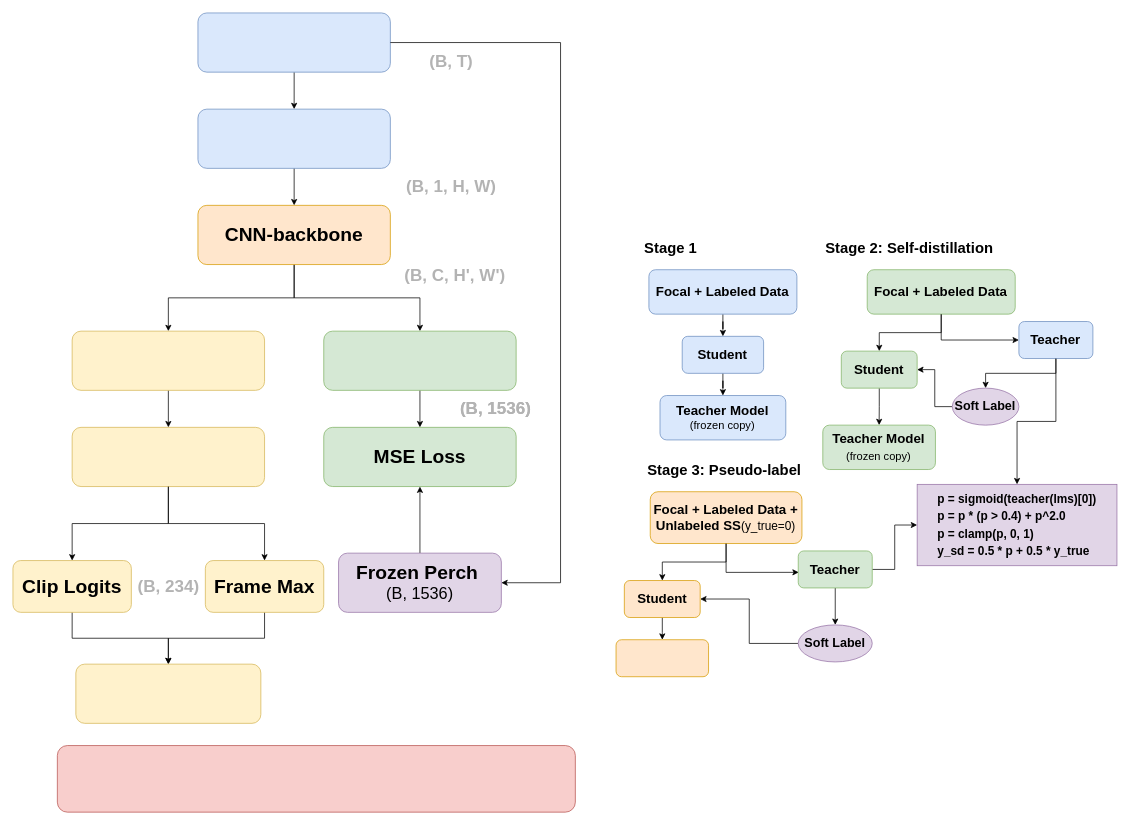
This 1130x825 diagram has some shape labels left out. Each missing label, with the centre of its shape:
"5s / 10s waveform @32kHz" goes at pixel 293 42.
"Attention Block" goes at pixel 168 457.
"BCEWithLogits" goes at pixel 168 693.
"Final Model" goes at pixel 662 658.
"GAP + Linear c to 1536-d" goes at pixel 419 360.
"GeM Pooling" goes at pixel 168 360.
"L = w_clip * L_cls + w_frame * L_frame + 0.1 * distill_loss" goes at pixel 316 778.
"Log-Mel & Data Aug" goes at pixel 293 138.
